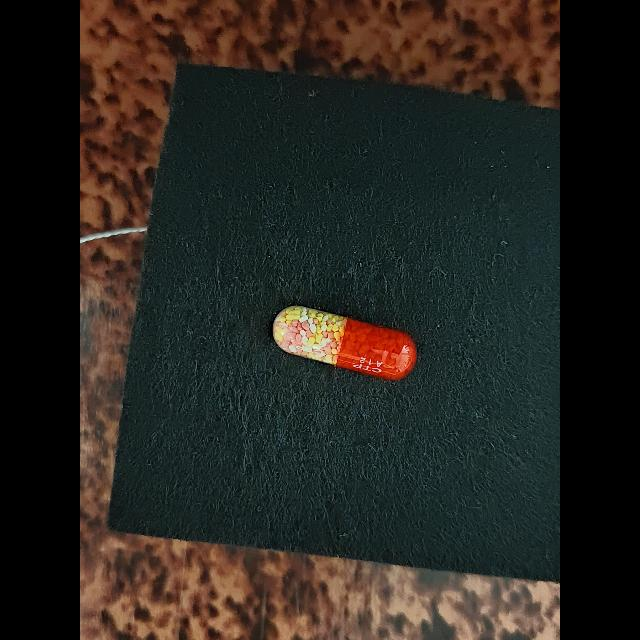Intact Capsule: (273, 306, 417, 380)
